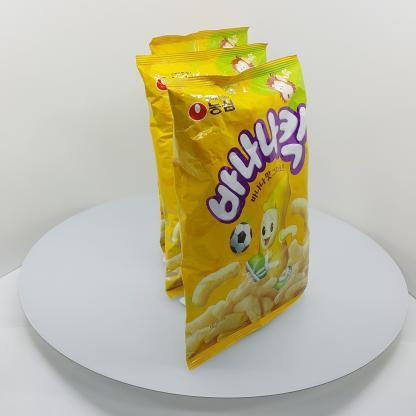Plastic Packaging: (131, 20, 329, 376)
